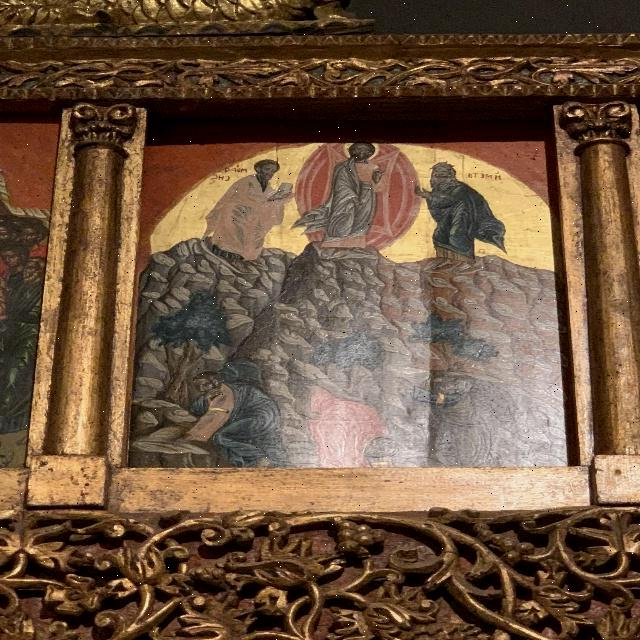aura: (344, 140, 384, 166)
christ: (307, 139, 421, 263)
